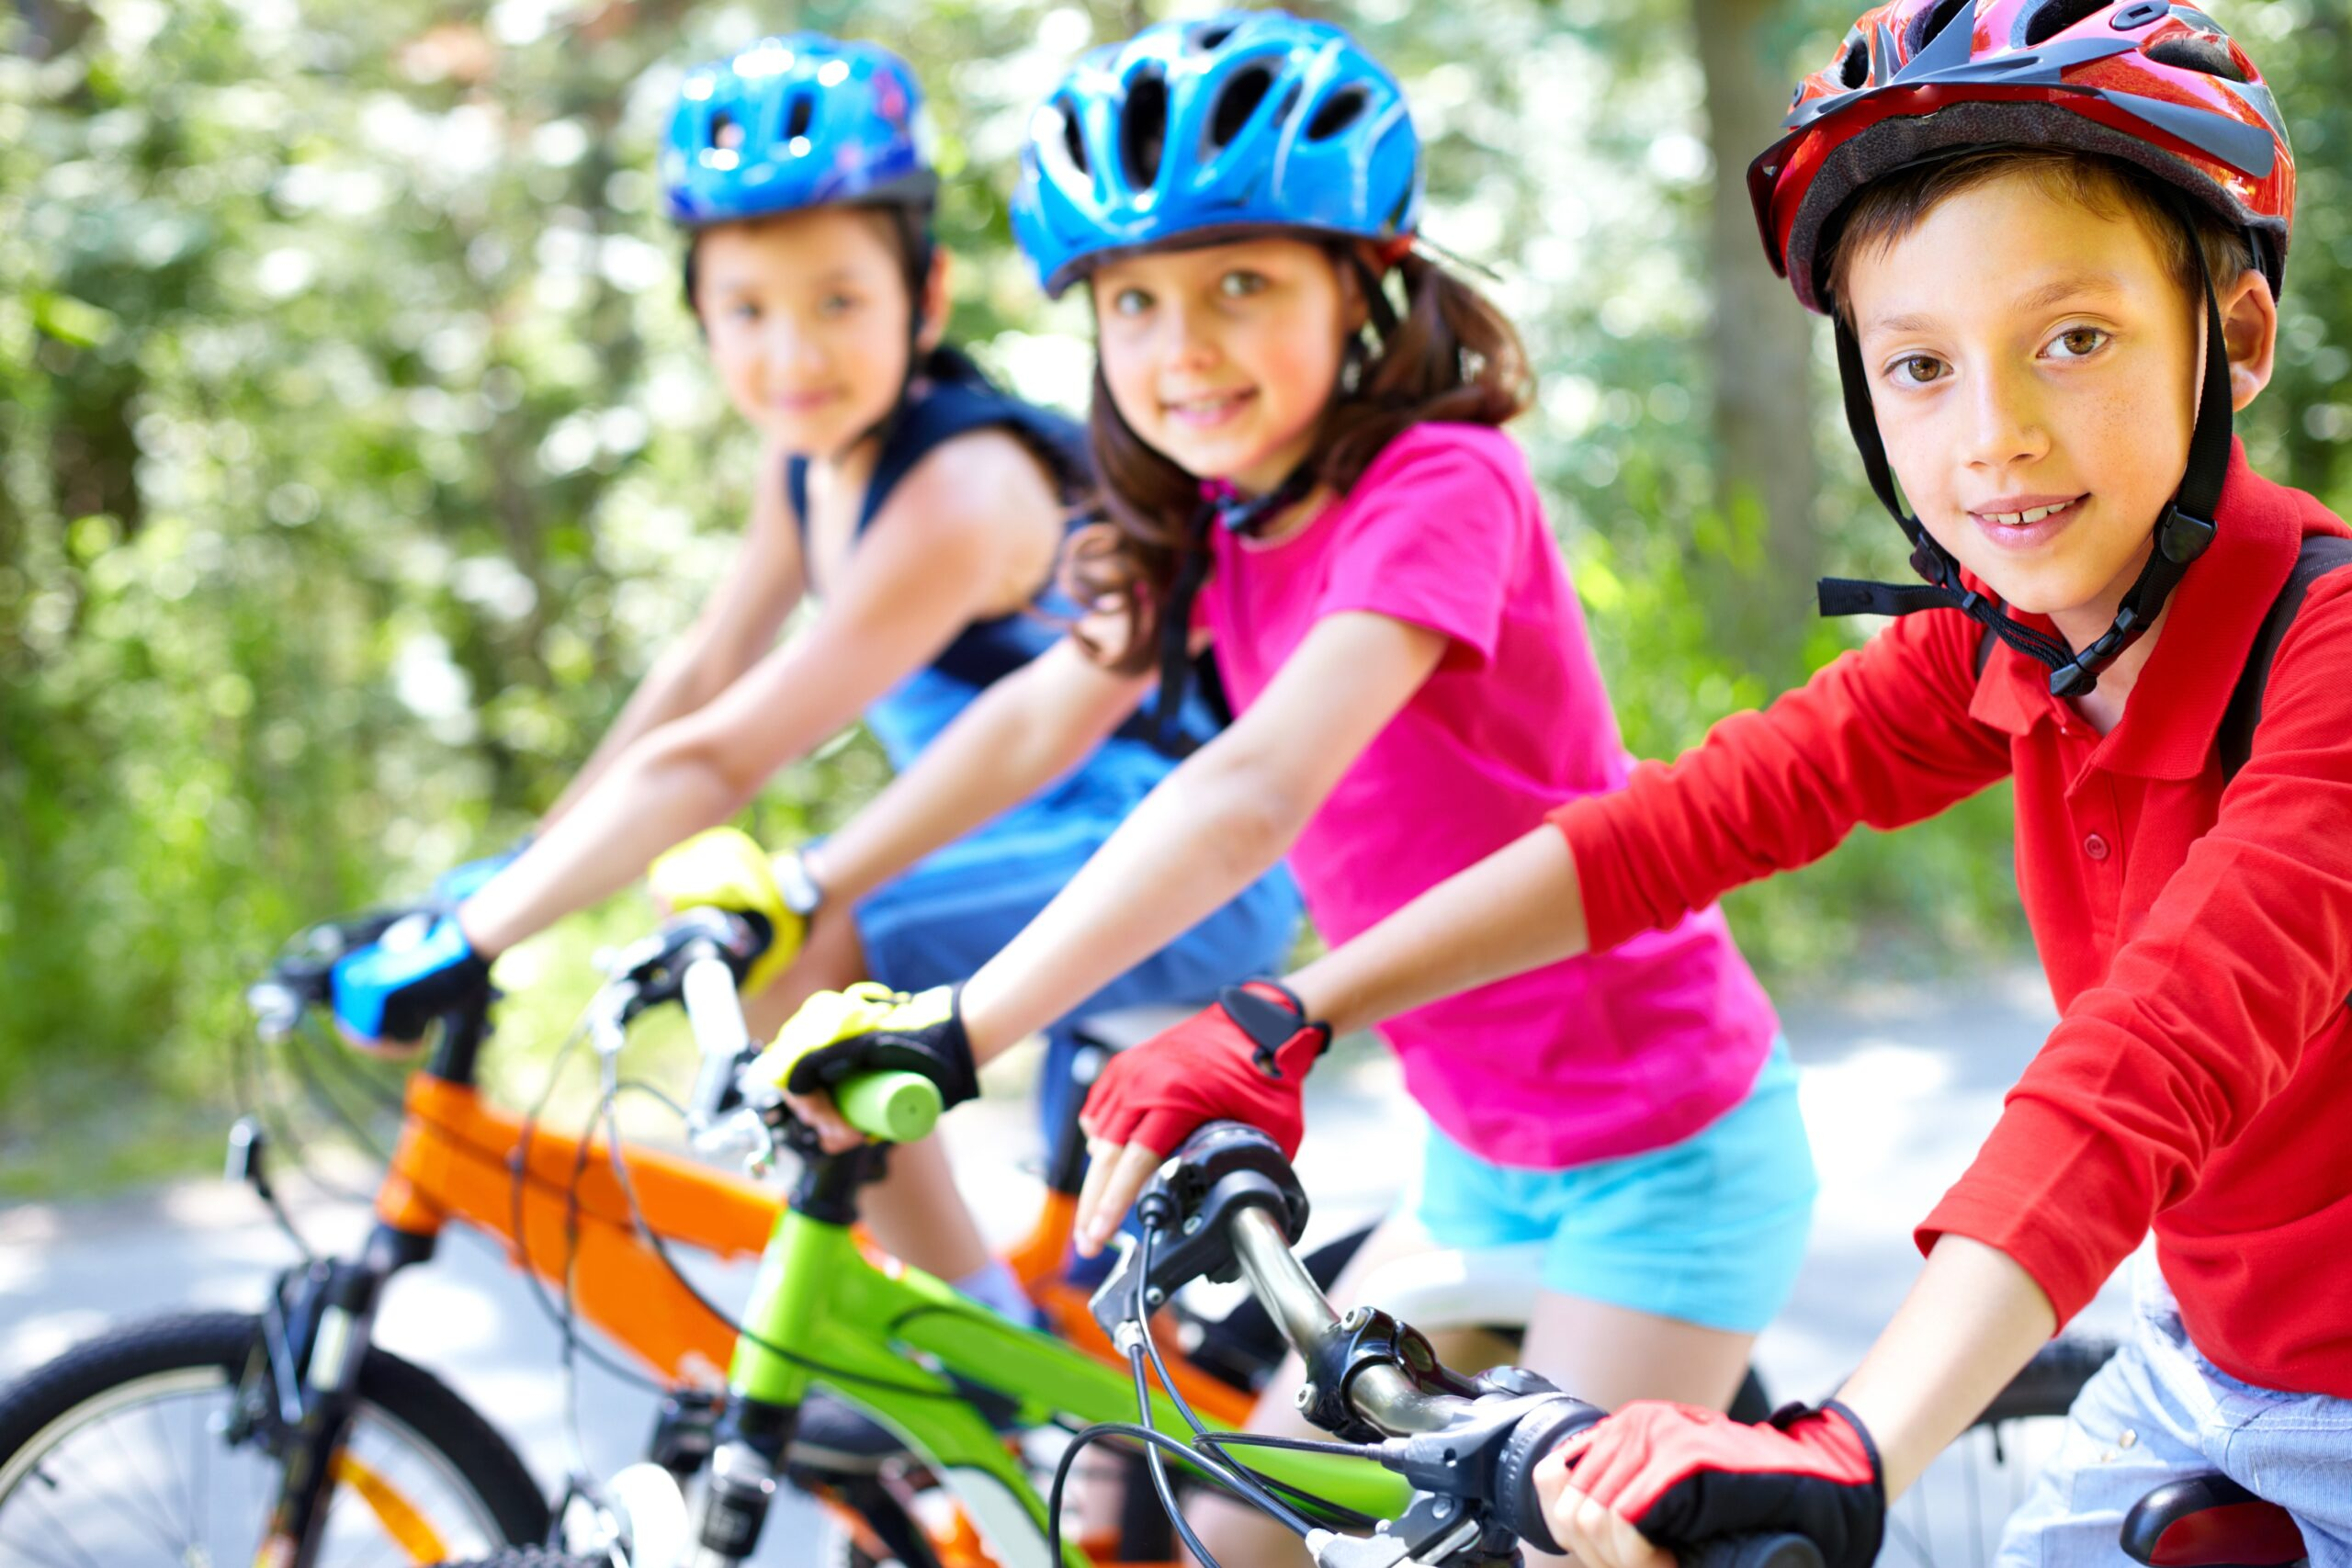helmet: (1745, 2, 2299, 618), (1015, 3, 1421, 481), (663, 32, 940, 453)
